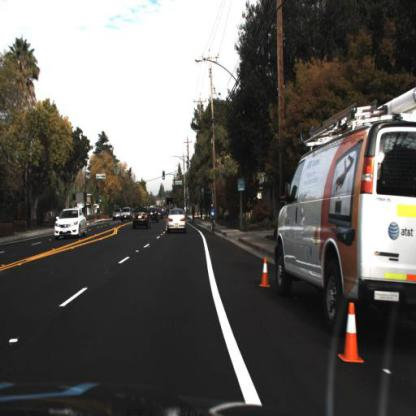biker: (209, 202, 220, 231), (209, 201, 217, 238)
car: (271, 85, 416, 339), (53, 206, 89, 243), (51, 205, 88, 240), (164, 208, 188, 237), (131, 205, 155, 233), (131, 207, 154, 232), (166, 208, 189, 233), (123, 204, 135, 224)
